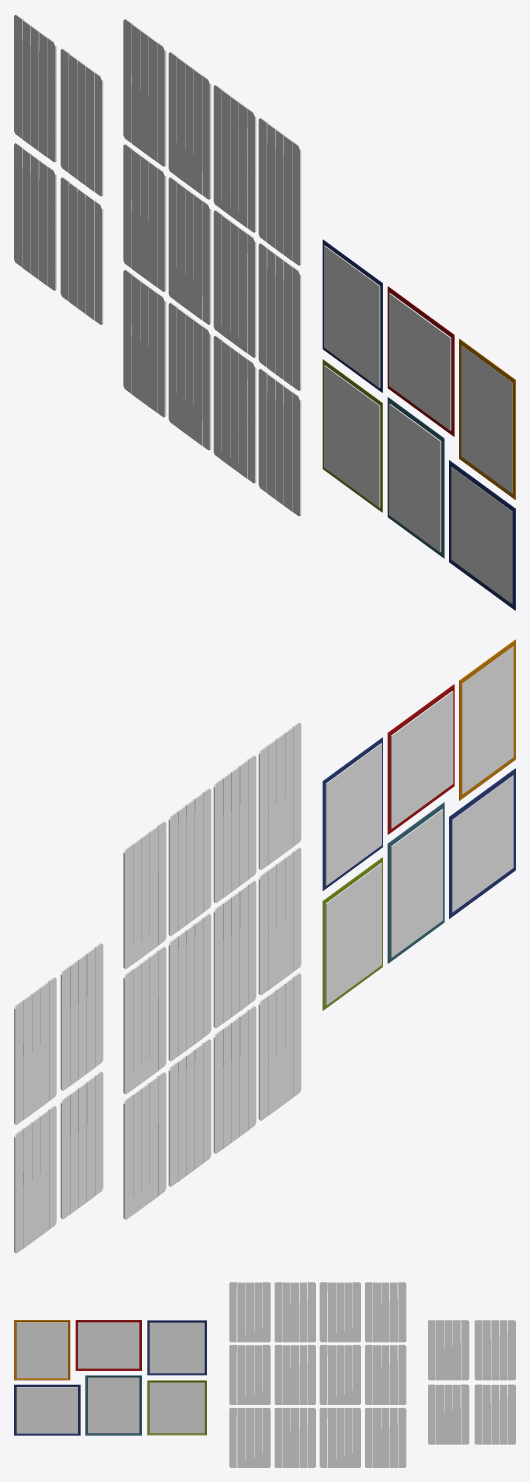
The model's file is uploads_files_246671_Dogs.FBX.
3 views of the same model, one above another, from view 1: azimuth 30°, elevation 25°; view 2: azimuth 150°, elevation 25°; view 3: azimuth 270°, elevation 25° (orthographic). The views are drawn at different scales.
Visible parts, largest first — view 1: Box035, Box038, Box044, Box043, Box033, Box040, Line012, Line013, Line016, Line020, Line021, Line022 (+16 smaller); view 2: Box038, Box044, Box043, Box035, Box033, Box040, Line017, Line018, Line010, Line016, Line019, Line012 (+16 smaller); view 3: Box033, Box035, Box040, Box038, Box044, Box043, Line007, Line012, Line022, Line008, Line009, Line013 (+16 smaller).
Part boxes in pixels (x1=…): Box035: x1=389, y1=404, x2=441, y2=552; Box038: x1=389, y1=293, x2=451, y2=430; Box044: x1=324, y1=365, x2=380, y2=507; Box043: x1=324, y1=245, x2=380, y2=387; Box033: x1=461, y1=345, x2=512, y2=493; Box040: x1=451, y1=467, x2=512, y2=604; Line012: x1=258, y1=117, x2=301, y2=265; Line013: x1=213, y1=84, x2=256, y2=232; Line016: x1=258, y1=243, x2=301, y2=390; Line020: x1=258, y1=368, x2=301, y2=516; Line021: x1=213, y1=335, x2=256, y2=483; Line022: x1=168, y1=302, x2=211, y2=450; Box038: x1=391, y1=691, x2=453, y2=828; Box044: x1=325, y1=863, x2=381, y2=1005; Box043: x1=325, y1=743, x2=381, y2=885; Box035: x1=391, y1=809, x2=442, y2=957; Box033: x1=462, y1=646, x2=513, y2=794; Box040: x1=452, y1=775, x2=513, y2=912; Line017: x1=213, y1=880, x2=256, y2=1028; Line018: x1=168, y1=913, x2=211, y2=1061; Line010: x1=60, y1=1071, x2=103, y2=1219; Line016: x1=258, y1=847, x2=301, y2=995; Line019: x1=123, y1=946, x2=166, y2=1094; Line012: x1=258, y1=722, x2=301, y2=870; Box033: x1=16, y1=1322, x2=67, y2=1378; Box035: x1=88, y1=1377, x2=139, y2=1433; Box040: x1=16, y1=1387, x2=77, y2=1433; Box038: x1=78, y1=1322, x2=139, y2=1368; Box044: x1=149, y1=1382, x2=204, y2=1433; Box043: x1=149, y1=1322, x2=204, y2=1373; Line007: x1=428, y1=1320, x2=469, y2=1380; Line012: x1=229, y1=1282, x2=270, y2=1342; Line022: x1=319, y1=1407, x2=360, y2=1467; Line008: x1=474, y1=1320, x2=515, y2=1380; Line009: x1=474, y1=1384, x2=515, y2=1444; Line013: x1=274, y1=1282, x2=315, y2=1342.
Size of the model in its own units: 29.69 by 4912 by 12042.
